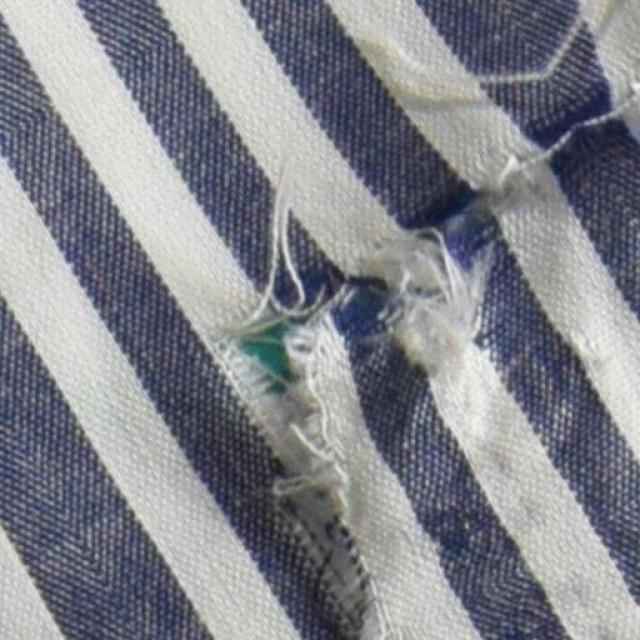cut: (207, 175, 505, 387), (268, 394, 372, 630)
